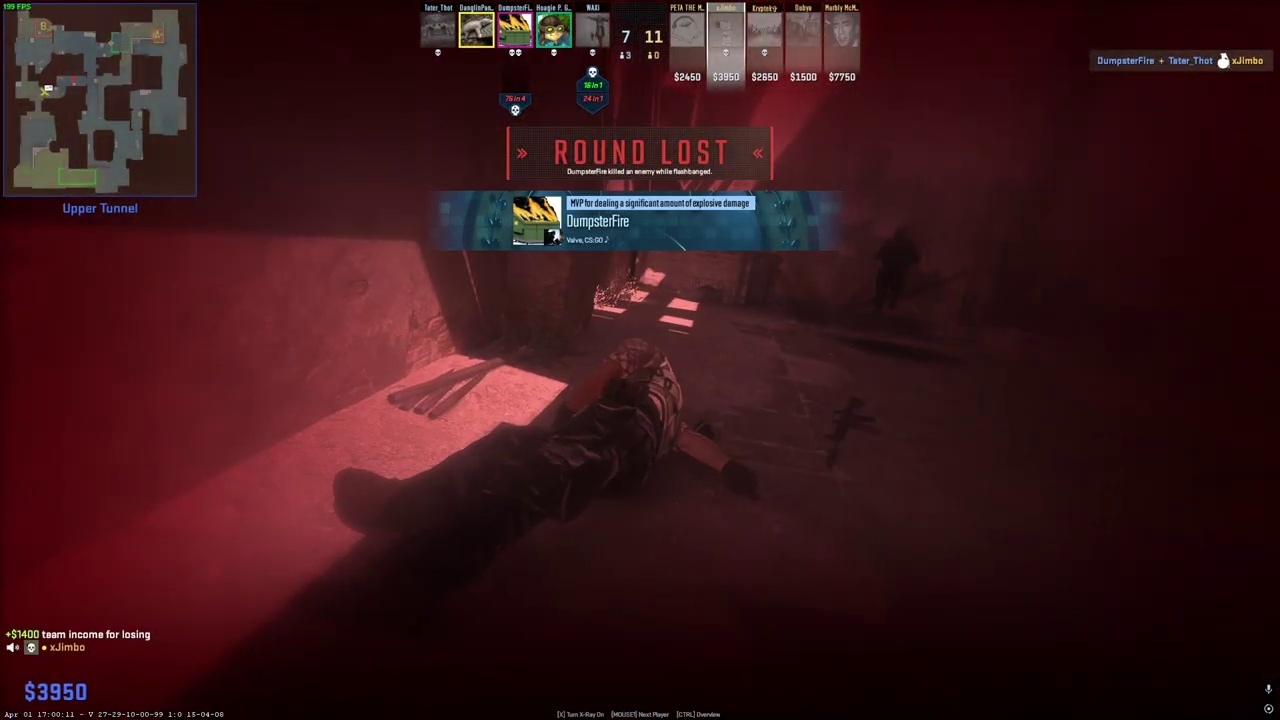CT: (872, 226, 916, 315)
